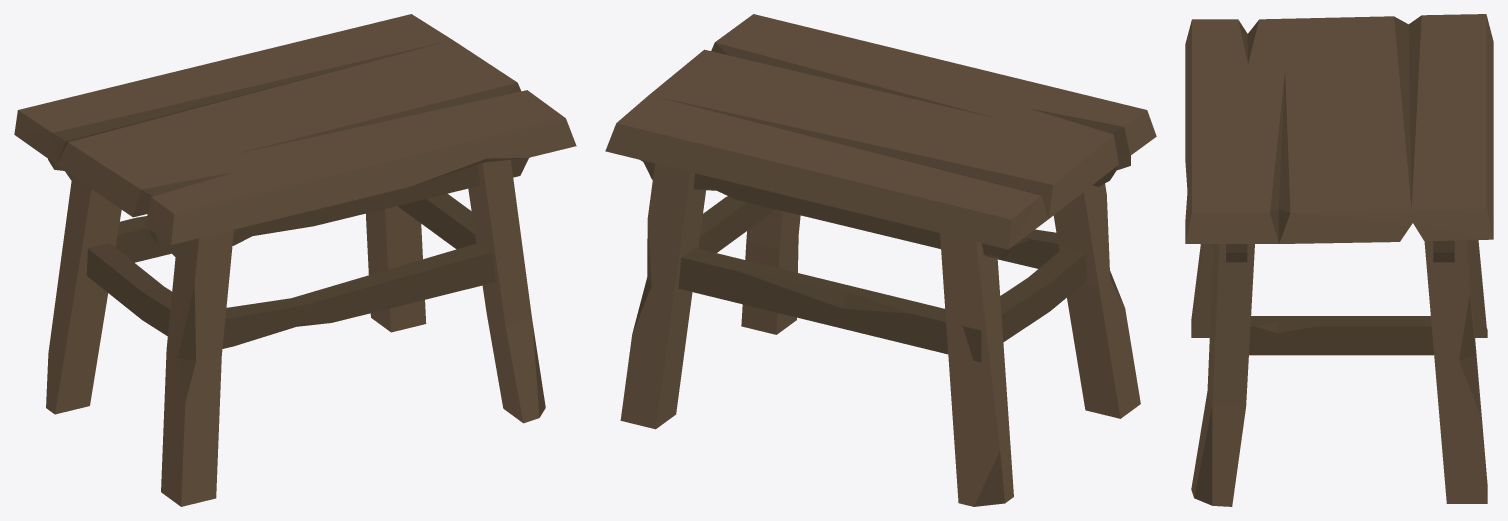
File: samurai_SM_Prop_Stool_01.gltf
3 renders of one model, left to right at view 1: azimuth 30°, elevation 25°; view 2: azimuth 150°, elevation 25°; view 3: azimuth 270°, elevation 25°, orthographic.
Parts seen in each view (by area): view 1: SM_Prop_Stool_01; view 2: SM_Prop_Stool_01; view 3: SM_Prop_Stool_01.
Boxes of the visible parts, bbox=[...] form: SM_Prop_Stool_01: bbox=[14, 14, 576, 506]; SM_Prop_Stool_01: bbox=[605, 14, 1156, 506]; SM_Prop_Stool_01: bbox=[1185, 14, 1493, 506].
Size of the model in its own units: 0.6715 by 0.4607 by 0.4318.
1 material, 1 textured.
